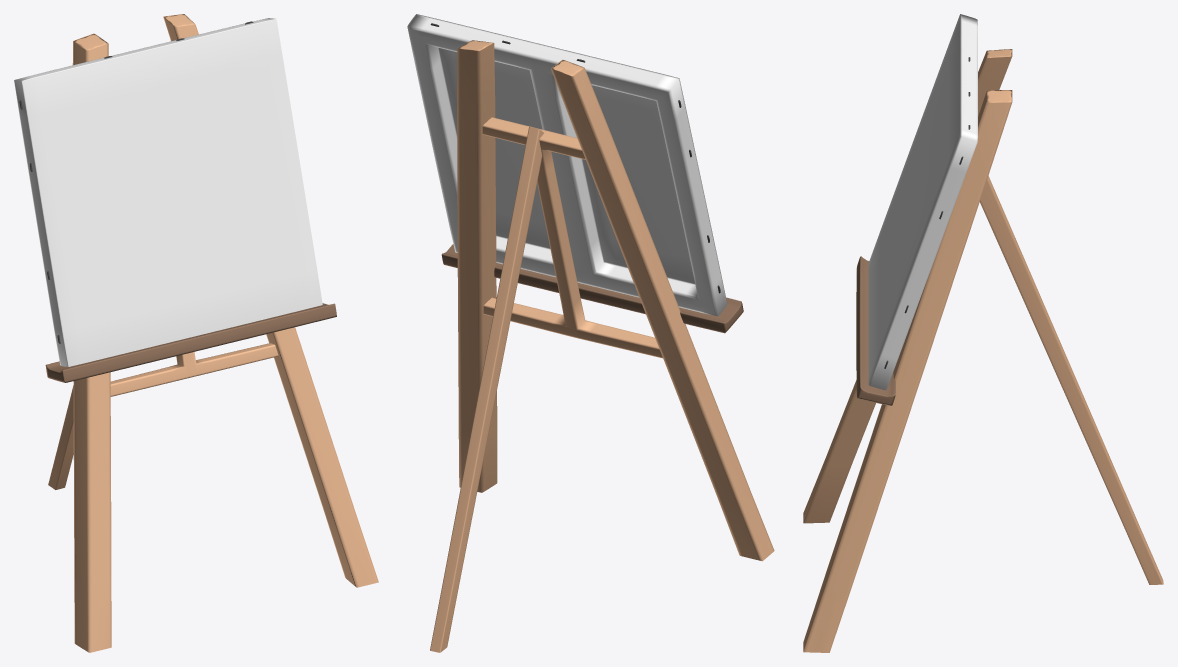
File: EaselAndCanvas.fbx
3 renders of one model, left to right at view 1: azimuth 30°, elevation 25°; view 2: azimuth 150°, elevation 25°; view 3: azimuth 270°, elevation 25°, orthographic. The views are drawn at different scales.
Parts seen in each view (by area): view 1: Canvas, Easel; view 2: Easel, Canvas; view 3: Easel, Canvas.
Boxes of the visible parts, <box> form: Canvas: <box>14,18,322,366</box>; Easel: <box>45,14,378,652</box>; Easel: <box>430,40,774,652</box>; Canvas: <box>407,14,727,316</box>; Easel: <box>803,49,1163,652</box>; Canvas: <box>868,14,977,390</box>.
Bounding box in the file's own units: 11.49 × 19.34 × 12.41.
Materials: 4 (1 with a texture image).
